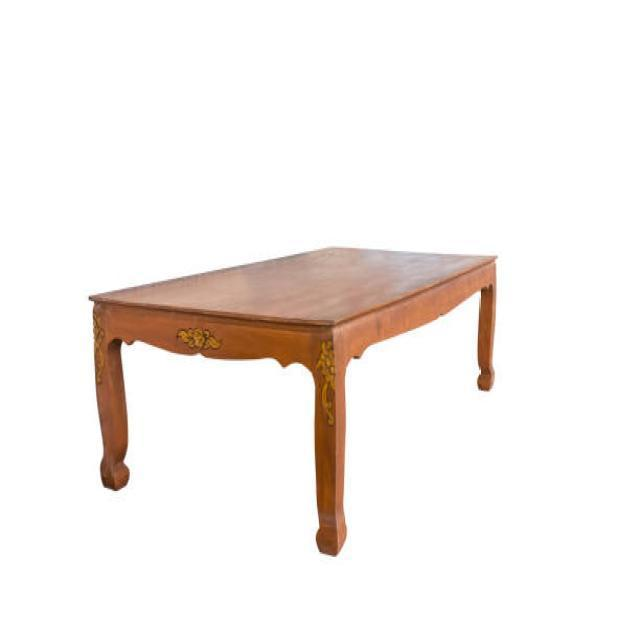table: (88, 243, 498, 555)
